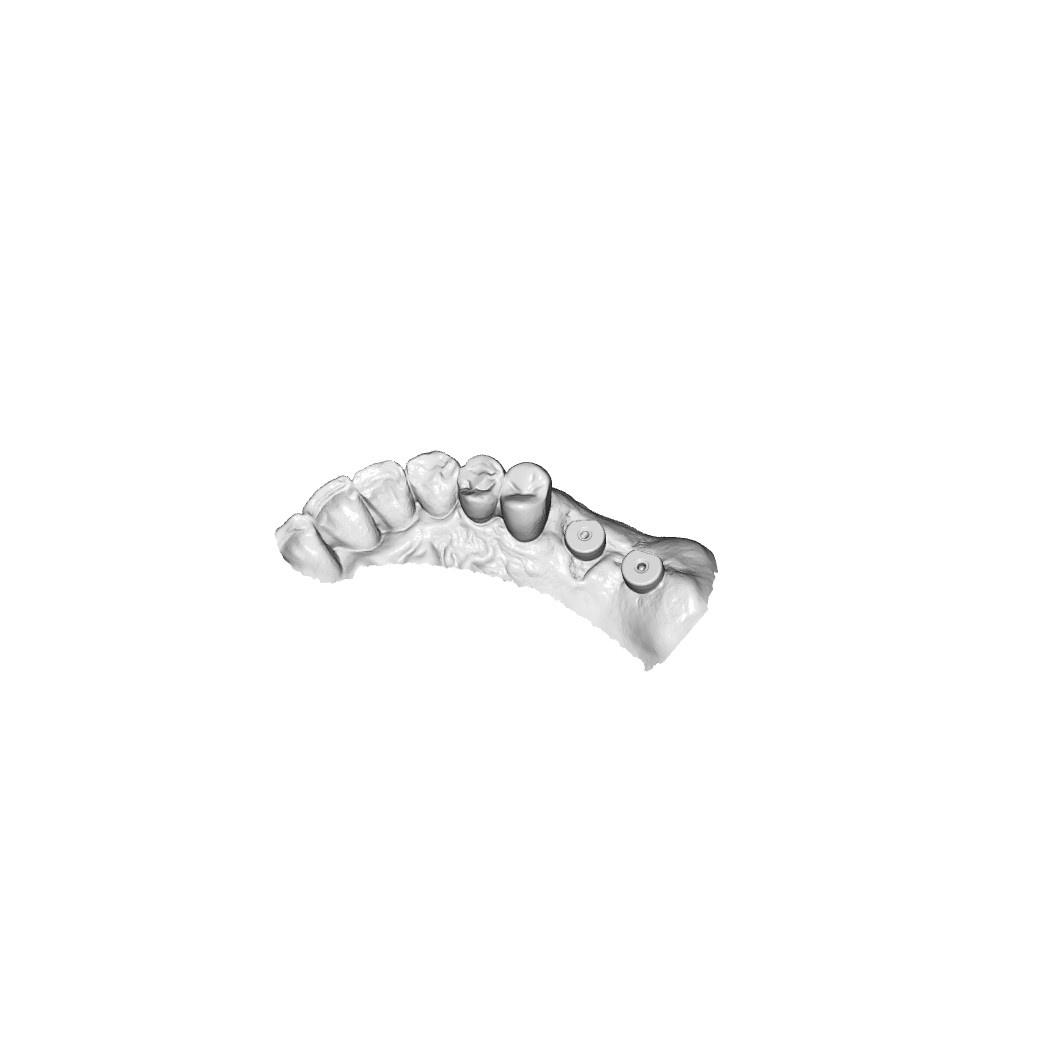canine: (404, 446, 462, 518)
implant: (620, 547, 666, 594), (561, 517, 609, 562)
incisor: (304, 474, 379, 555), (275, 511, 343, 583), (350, 457, 414, 531)
premolar: (499, 458, 554, 542), (457, 453, 505, 524)
